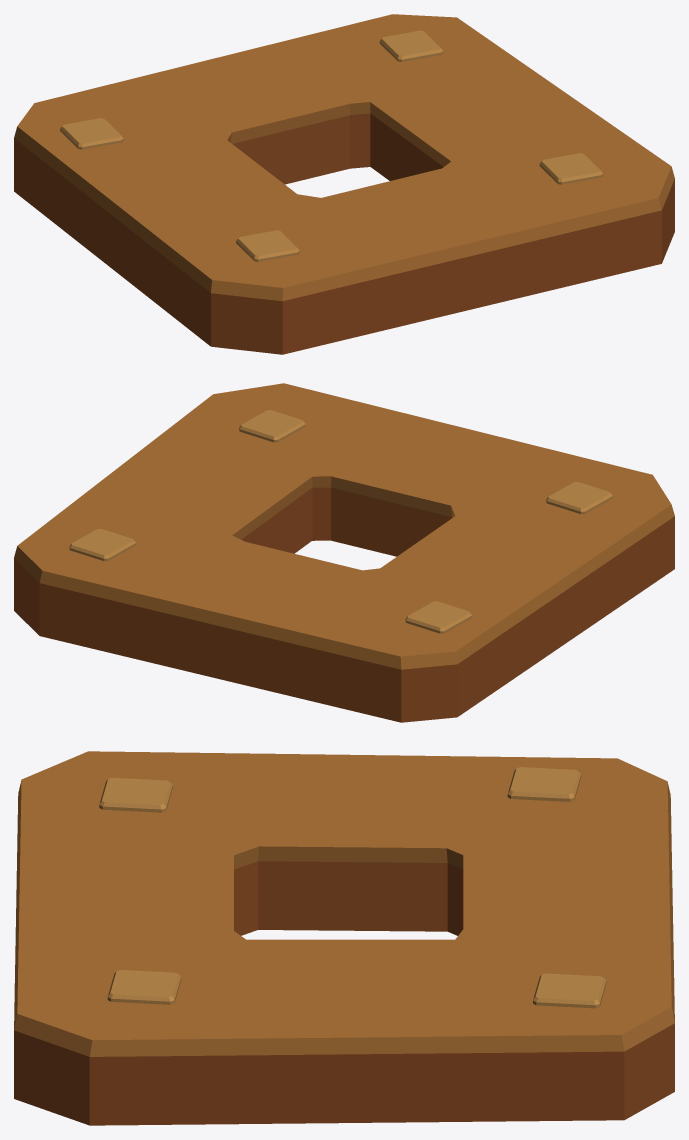
The model's file is salzsee_21.glb.
3 renders of one model, top to bottom at view 1: azimuth 30°, elevation 25°; view 2: azimuth 150°, elevation 25°; view 3: azimuth 270°, elevation 25°, orthographic. The views are drawn at different scales.
Parts seen in each view (by area): view 1: salzsee_21; view 2: salzsee_21; view 3: salzsee_21.
Part boxes in pixels (bbox=[...]): salzsee_21: bbox=[14, 14, 674, 354]; salzsee_21: bbox=[14, 383, 674, 722]; salzsee_21: bbox=[14, 751, 674, 1125].
Size of the model in its own units: 2 by 0.289 by 1.91.
